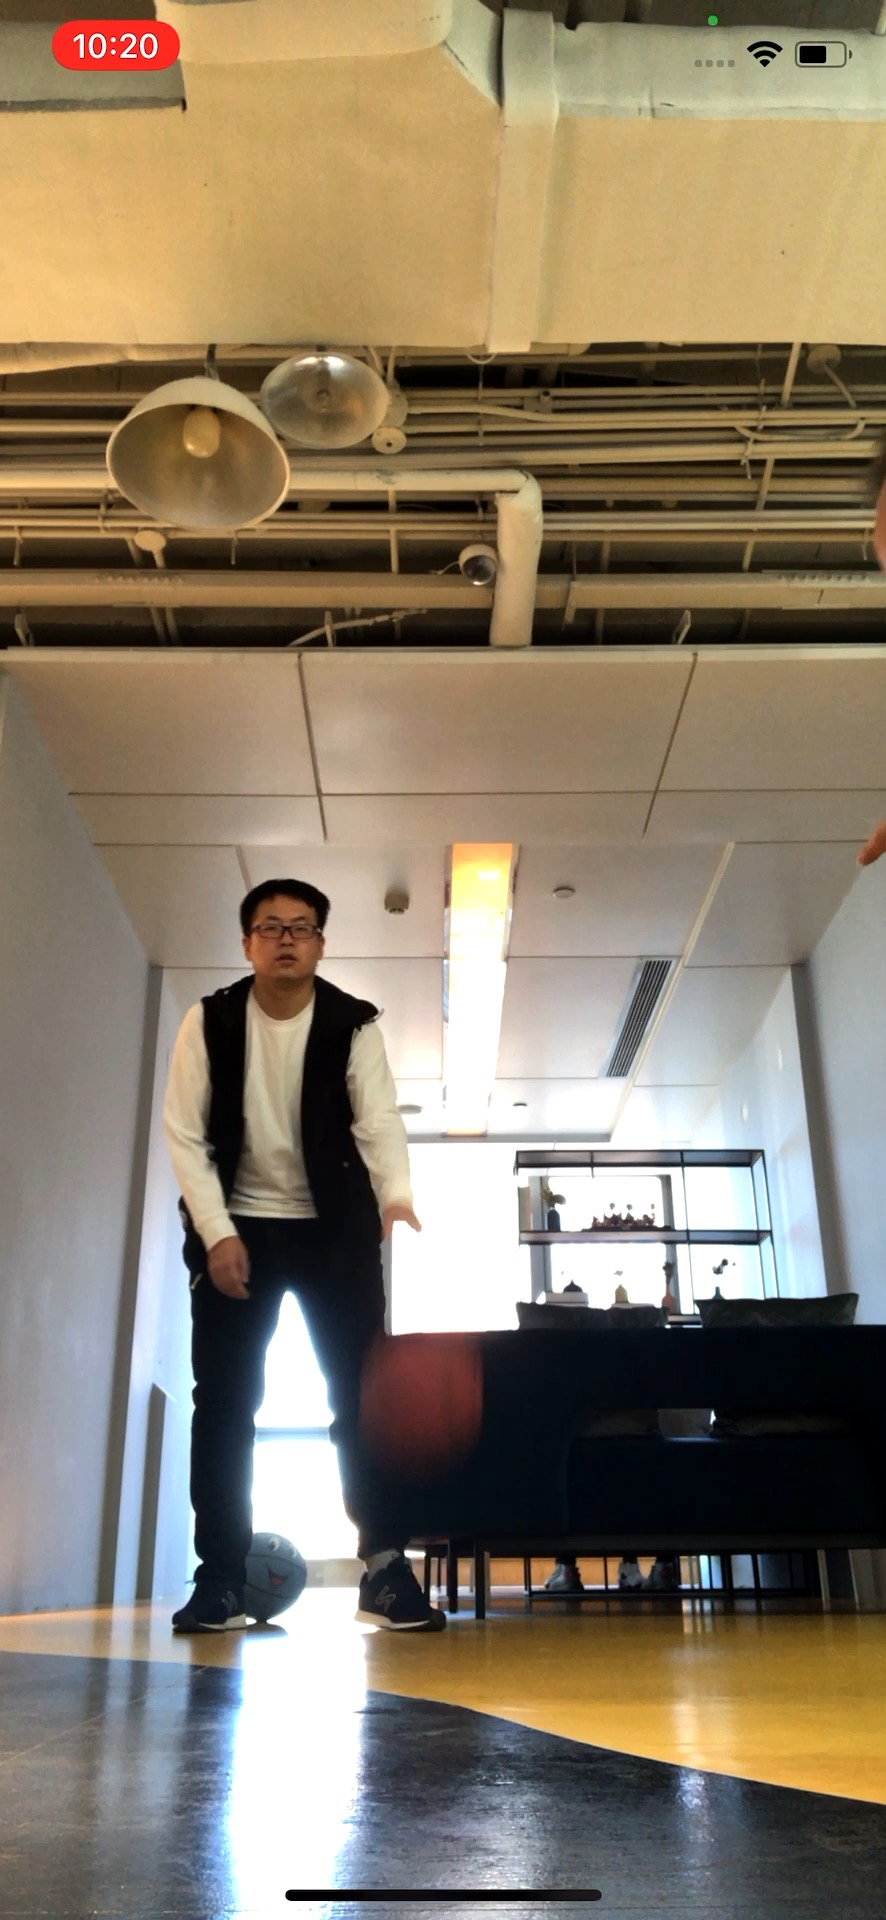ball: (359, 1343, 482, 1460)
